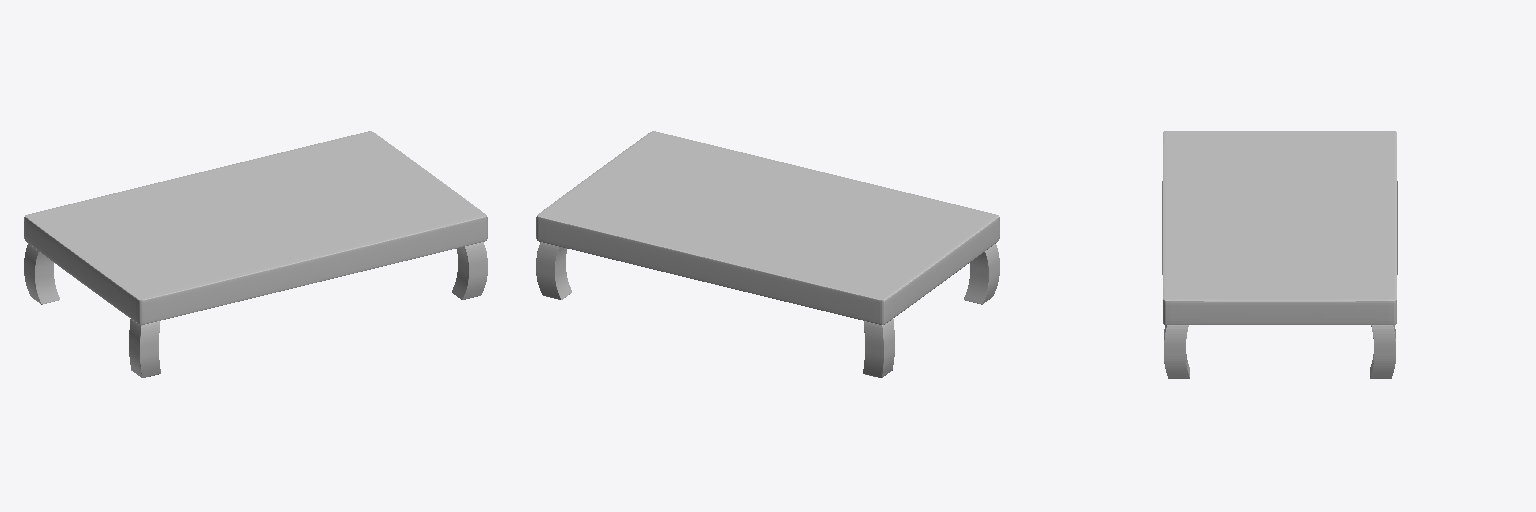
Rendered from tablebasse1.obj.
3 renders of one model, left to right at view 1: azimuth 30°, elevation 25°; view 2: azimuth 150°, elevation 25°; view 3: azimuth 270°, elevation 25°, orthographic.
Visible parts, largest first — view 1: Table, Pieds; view 2: Table, Pieds; view 3: Table, Pieds.
Boxes of the visible parts, box(x1,y1,x2,y2) form: Table: box(24, 131, 487, 324); Pieds: box(24, 242, 487, 377); Table: box(536, 131, 999, 324); Pieds: box(536, 242, 999, 377); Table: box(1162, 131, 1397, 324); Pieds: box(1164, 325, 1395, 378).
Size of the model in its own units: 3.04 by 0.6721 by 1.77.